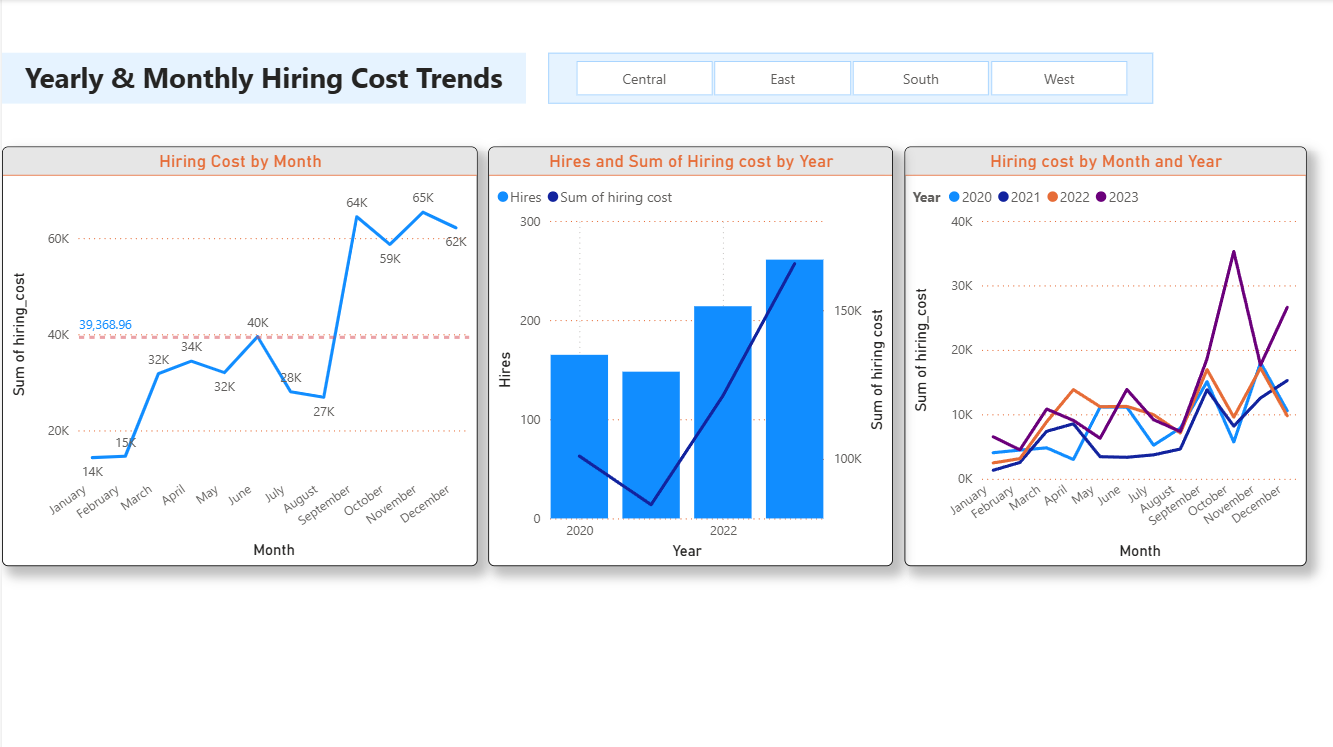

This screenshot's page, from the dashboard's own definition file:
{"tool":"powerbi","page":{"name":"Hiring Trend Analysis","canvas":[1280,720],"ordinal":1},"visuals":[{"type":"lineChart","title":"Hiring Cost by Month","fields":{"Y":["Sum(Combined Hiring Data.hiring_cost)"],"Category":["Combined Hiring Data.hiring_date.Variation.Date Hierarchy.Month"]},"box":[0,141.4,455.9,402.5],"z":0},{"type":"lineChart","title":"Hiring cost by Month and Year","fields":{"Category":["Combined Hiring Data.hiring_date.Variation.Date Hierarchy.Month"],"Y":["Sum(Combined Hiring Data.hiring_cost)"],"Series":["Combined Hiring Data.hiring_date.Variation.Date Hierarchy.Year"]},"box":[865.7,141.4,385.2,402.5],"z":1000},{"type":"textbox","box":[0,51.9,502.1,49.1],"z":2000},{"type":"slicer","fields":{"Values":["Store Data.region"]},"box":[523.7,51.9,580,49.1],"z":3000},{"type":"lineClusteredColumnComboChart","title":"Hires and Sum of Hiring cost by Year","fields":{"Category":["Combined Hiring Data.Year"],"Y":["Combined Hiring Data.Hires"],"Y2":["Sum(Combined Hiring Data.hiring_cost)"]},"box":[466,141.4,388.1,402.5],"z":4000}]}

Visuals, with their boxes in screenshot pixels (x1, y1, x2, y2), scaled from the page's 1280x720 canvas onto the 1333x747 screenshot:
"Hiring Cost by Month" lineChart: x1=0 y1=147 x2=475 y2=564
"Hiring cost by Month and Year" lineChart: x1=902 y1=147 x2=1303 y2=564
textbox: x1=0 y1=54 x2=523 y2=105
slicer - Store Data.region: x1=545 y1=54 x2=1149 y2=105
"Hires and Sum of Hiring cost by Year" lineClusteredColumnComboChart: x1=485 y1=147 x2=889 y2=564
